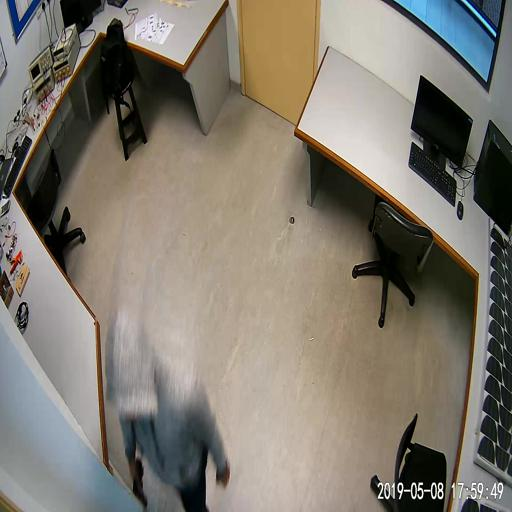pistol: (131, 457, 148, 507)
